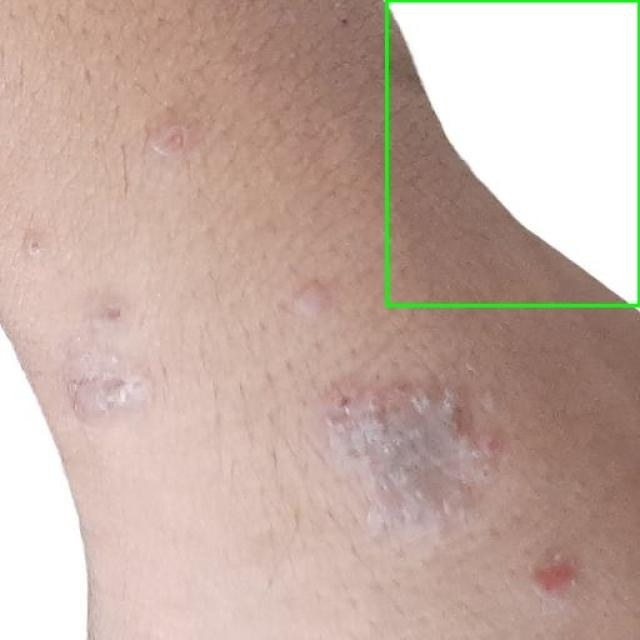Contact Dermatitis: (386, 0, 639, 306)
